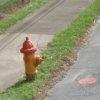Hydrant: (13, 30, 46, 83)
